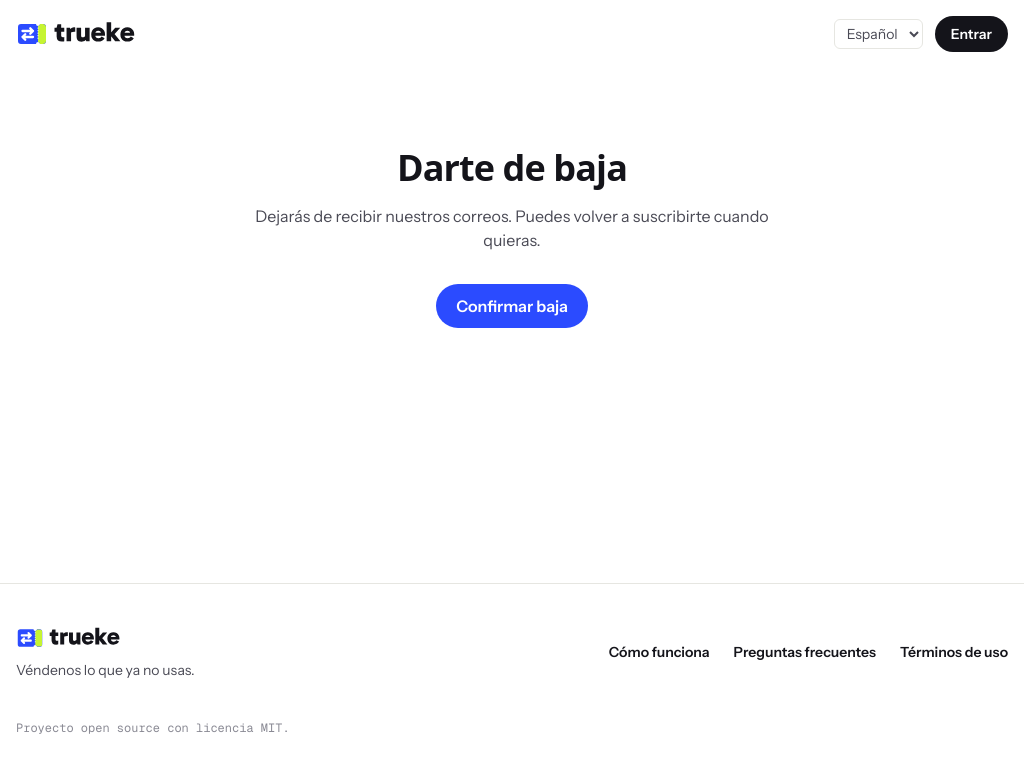
Test: baja del newsletter › pide confirmar antes de dar de baja
Click the button "Confirmar baja" at [512, 306], box [436, 284, 588, 328]
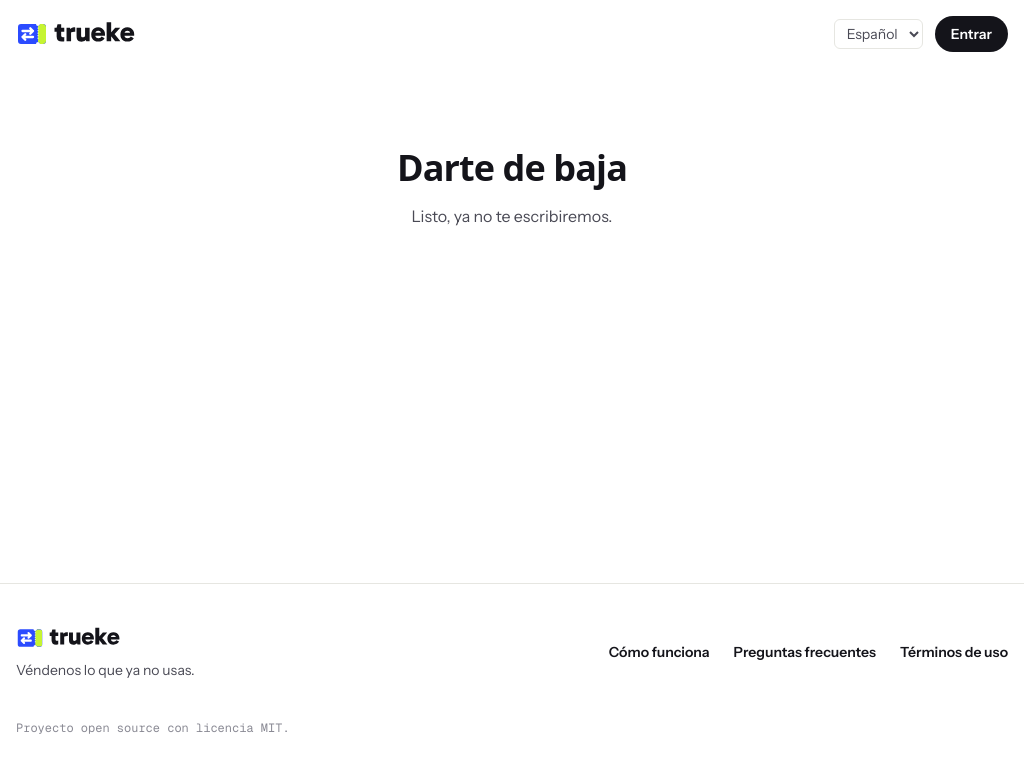
Check: the text "Listo, ya no te escribiremos." is shown, box [412, 206, 612, 226]
